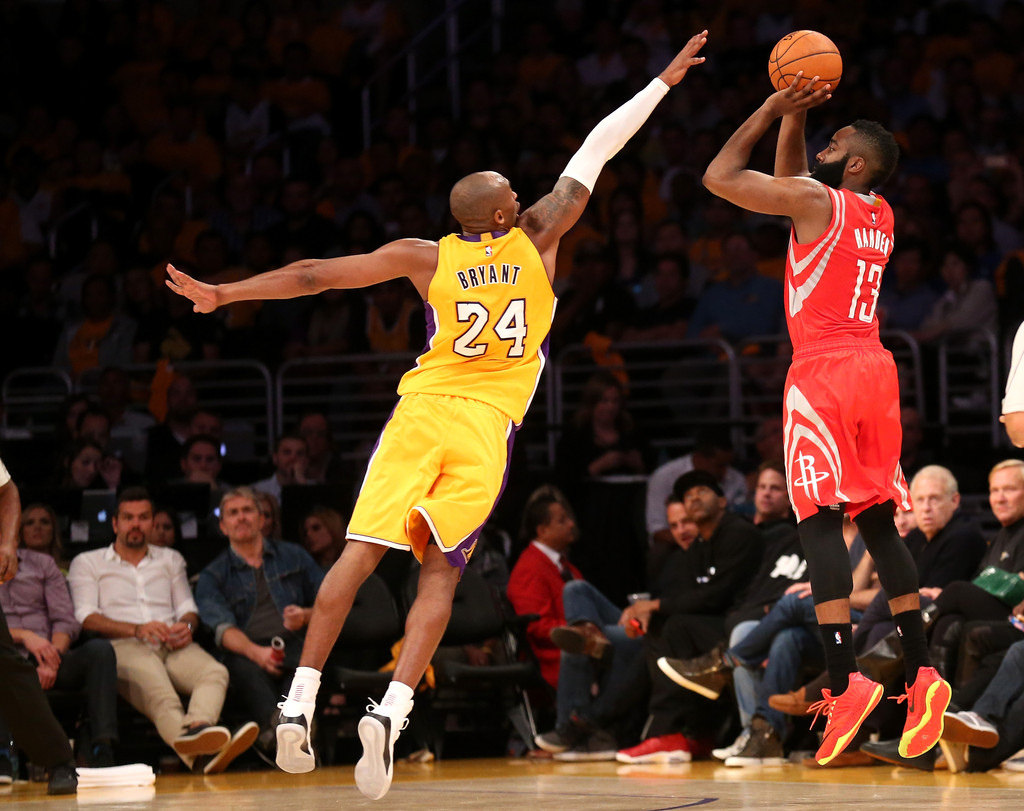Basketball: (765, 25, 843, 97)
